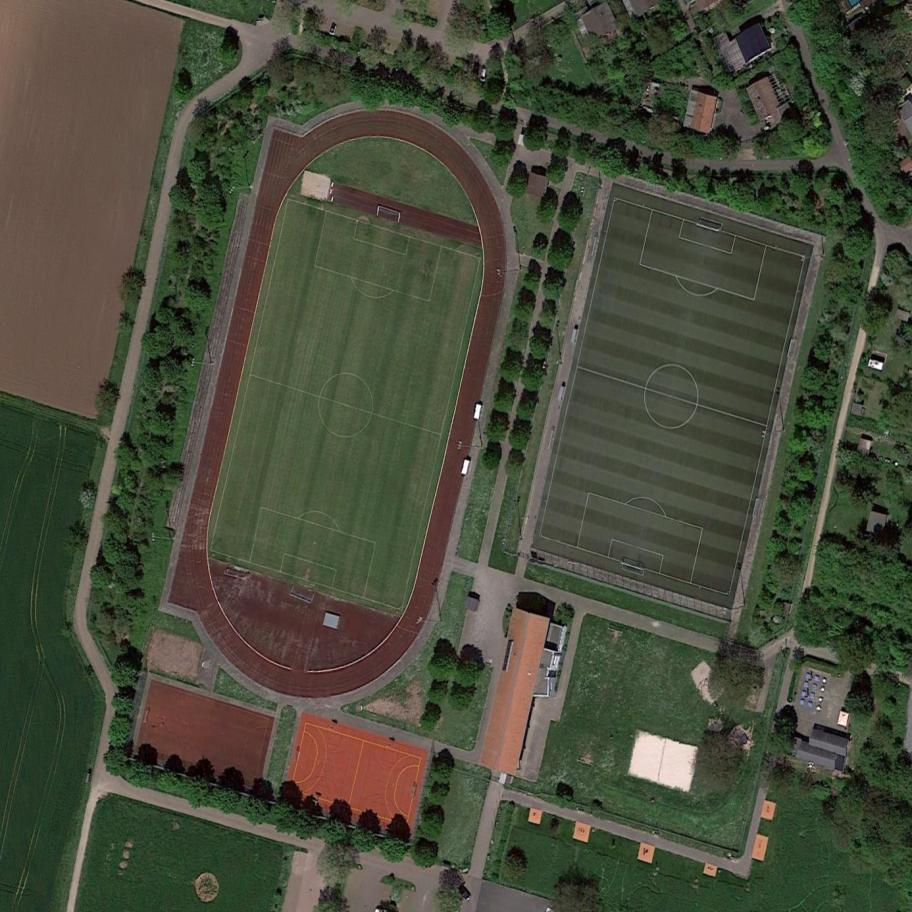small-vehicle: (456, 883, 474, 900), (328, 22, 339, 36), (479, 66, 487, 82)
